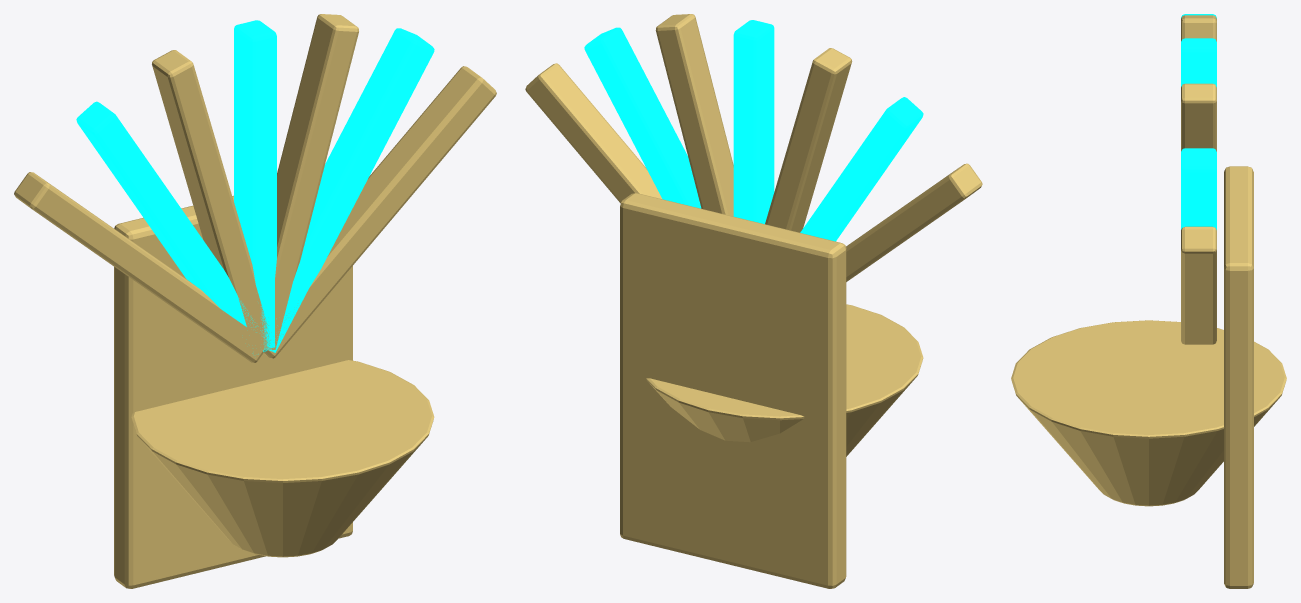
The model's file is FanSconce.fbx.
3 views of the same model, side by side, from view 1: azimuth 30°, elevation 25°; view 2: azimuth 150°, elevation 25°; view 3: azimuth 270°, elevation 25° (orthographic). The views are drawn at different scales.
Parts seen in each view (by area): view 1: FanSconce_Gold, FanSconce_Neon; view 2: FanSconce_Gold, FanSconce_Neon; view 3: FanSconce_Gold, FanSconce_Neon.
Boxes of the visible parts, left/top/right/bottom form: FanSconce_Gold: left=14, top=14, right=496, bottom=588; FanSconce_Neon: left=76, top=20, right=434, bottom=354; FanSconce_Gold: left=525, top=14, right=982, bottom=588; FanSconce_Neon: left=584, top=20, right=923, bottom=241; FanSconce_Gold: left=1011, top=15, right=1286, bottom=588; FanSconce_Neon: left=1181, top=14, right=1216, bottom=229.
Bounding box in the file's own units: 2.46 × 2.75 × 1.38.
